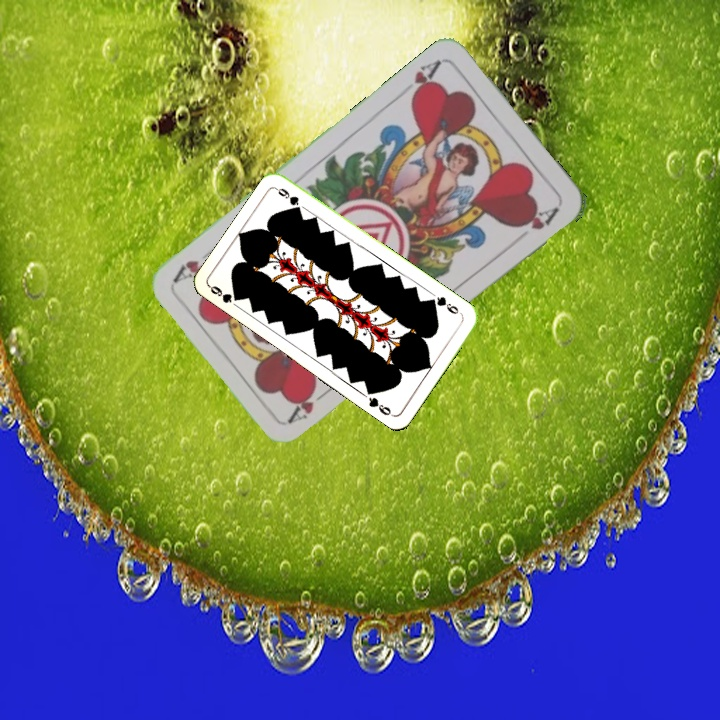G9: (426, 292, 465, 318), (206, 282, 242, 306)
HA: (285, 383, 335, 426), (406, 55, 445, 104)
